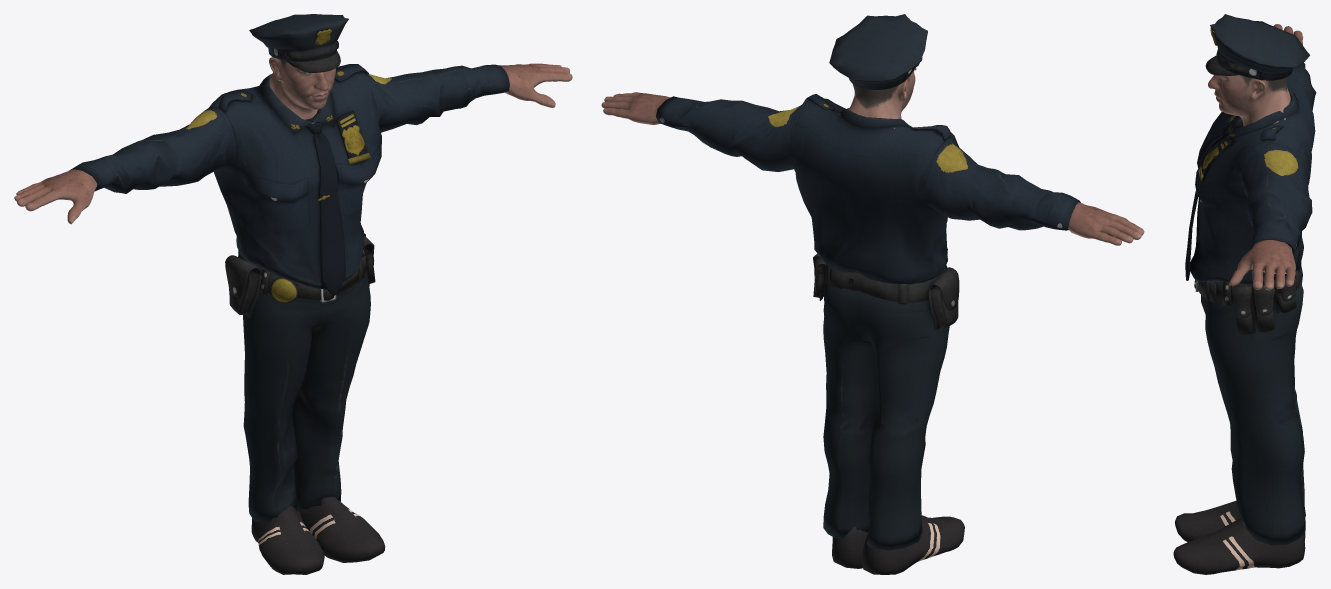
Rendered from Police Man.obj.
3 views of the same model, side by side, from view 1: azimuth 30°, elevation 25°; view 2: azimuth 150°, elevation 25°; view 3: azimuth 270°, elevation 25° (orthographic).
Visible parts, largest first — view 1: Tops, Bottoms, Shoes, Body, Hats; view 2: Tops, Bottoms, Hats, Body, Shoes; view 3: Bottoms, Tops, Shoes, Body, Hats.
Boxes of the visible parts, x1,y1,x2,y2 form: Tops: [69, 64, 509, 295]; Bottoms: [225, 233, 375, 522]; Shoes: [251, 497, 385, 574]; Body: [14, 57, 572, 224]; Hats: [249, 14, 348, 72]; Tops: [655, 94, 1080, 284]; Bottoms: [813, 253, 959, 550]; Hats: [829, 14, 927, 89]; Body: [601, 69, 1144, 245]; Shoes: [832, 515, 964, 574]; Bottoms: [1194, 262, 1305, 545]; Tops: [1185, 63, 1316, 284]; Shoes: [1173, 500, 1305, 574]; Body: [1208, 24, 1303, 290]; Hats: [1205, 14, 1309, 80].
Bounding box in the file's own units: 188 × 176 × 42.83.
Materials: 5 (5 with a texture image).
